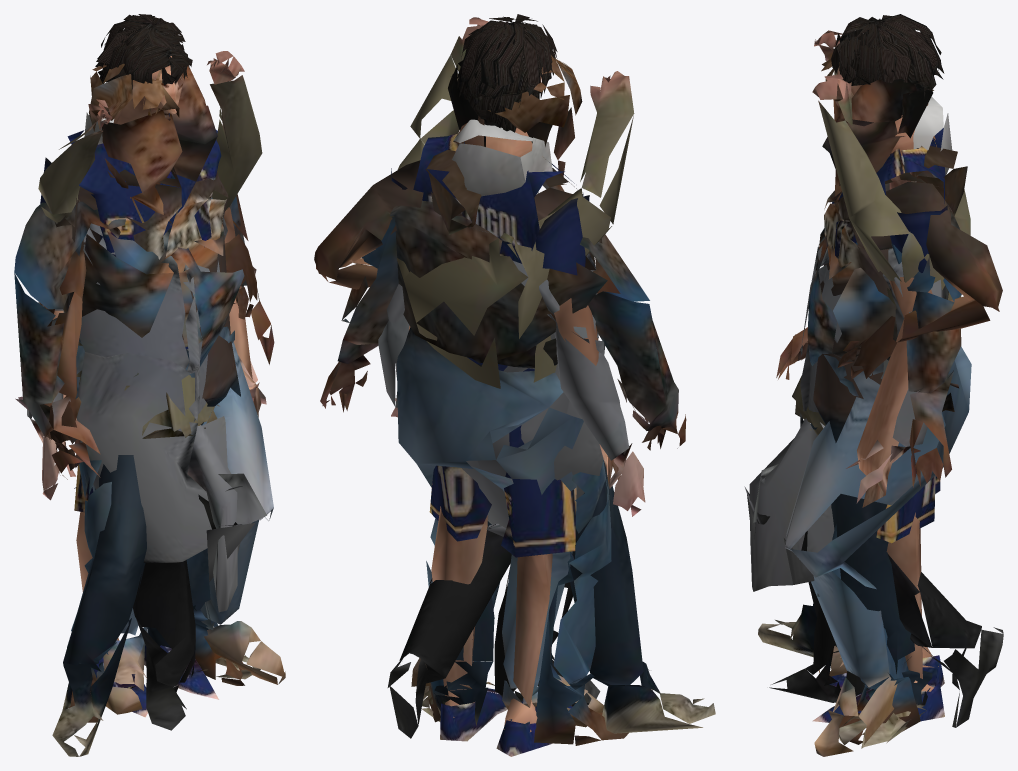
The model's file is stadium-crowd.glb.
3 views of the same model, side by side, from view 1: azimuth 30°, elevation 25°; view 2: azimuth 150°, elevation 25°; view 3: azimuth 270°, elevation 25° (orthographic). The views are drawn at different scales.
Parts seen in each view (by area): view 1: fan_woman, fan_grandma, fan_talk, player_home, fan_cheer; view 2: fan_woman, player_home, fan_cheer, fan_grandma, fan_talk; view 3: fan_woman, fan_talk, fan_grandma, player_home, fan_cheer.
Boxes of the visible parts, <box> form: fan_woman: <box>14,63,285,714</box>; fan_grandma: <box>27,112,266,730</box>; fan_talk: <box>47,56,260,756</box>; player_home: <box>39,14,261,717</box>; fan_cheer: <box>38,51,262,722</box>; fan_woman: <box>320,55,686,727</box>; player_home: <box>391,14,620,756</box>; fan_cheer: <box>397,17,634,745</box>; fan_grandma: <box>378,119,645,738</box>; fan_talk: <box>314,60,715,733</box>; fan_woman: <box>776,59,971,756</box>; fan_talk: <box>758,78,1002,748</box>; fan_grandma: <box>744,96,1003,727</box>; player_home: <box>812,14,947,722</box>; fan_cheer: <box>792,30,970,744</box>.
Bounding box in the file's own units: 0.8061 × 1.8 × 0.6178.
Materials: 6 (6 with a texture image).
